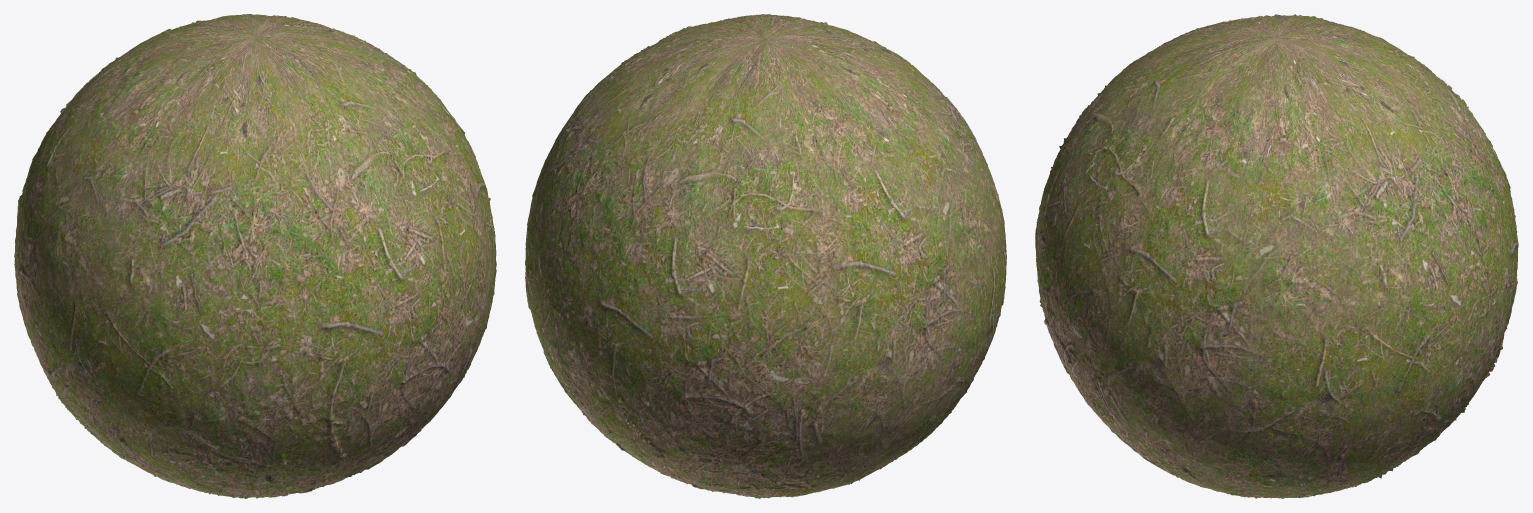
The model's file is forrest_ground_01_2k.gltf.
The picture shows the model from 3 angles, left to right: view 1: azimuth 30°, elevation 25°; view 2: azimuth 150°, elevation 25°; view 3: azimuth 270°, elevation 25°; orthographic projection.
Visible parts, largest first — view 1: sphere_gltf; view 2: sphere_gltf; view 3: sphere_gltf.
Part boxes in pixels (x1,y1,x2,y2): sphere_gltf: (14, 14, 496, 498); sphere_gltf: (525, 14, 1006, 498); sphere_gltf: (1035, 14, 1518, 498).
Size of the model in its own units: 2 by 2.01 by 2.
1 material, 1 textured.
